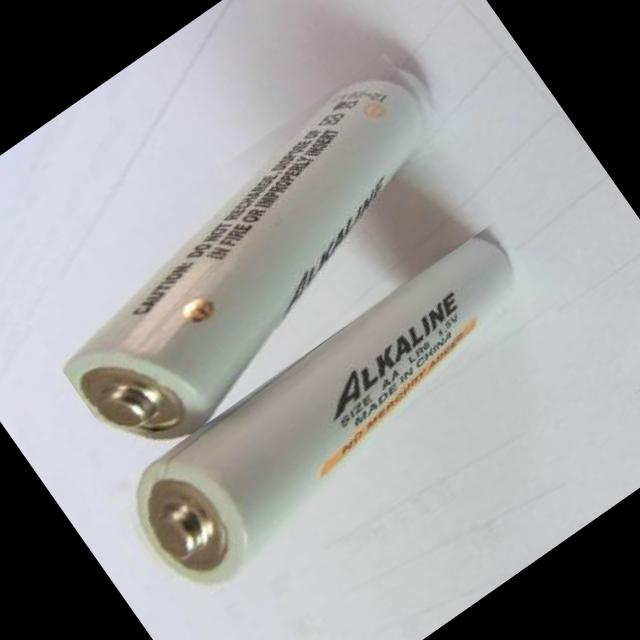Hazard: (17, 38, 516, 472), (100, 216, 576, 610)
